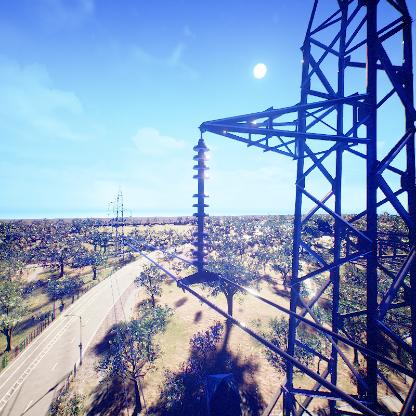insulator: (190, 139, 214, 272)
